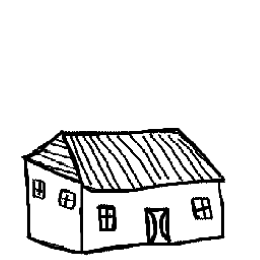bottom_placed_house: (3, 1, 260, 260)
closed_window: (94, 200, 123, 232), (189, 193, 214, 230), (57, 187, 75, 213), (31, 175, 46, 201)
door: (140, 202, 177, 253)
roof: (13, 121, 235, 193)
wall: (77, 175, 237, 257)
